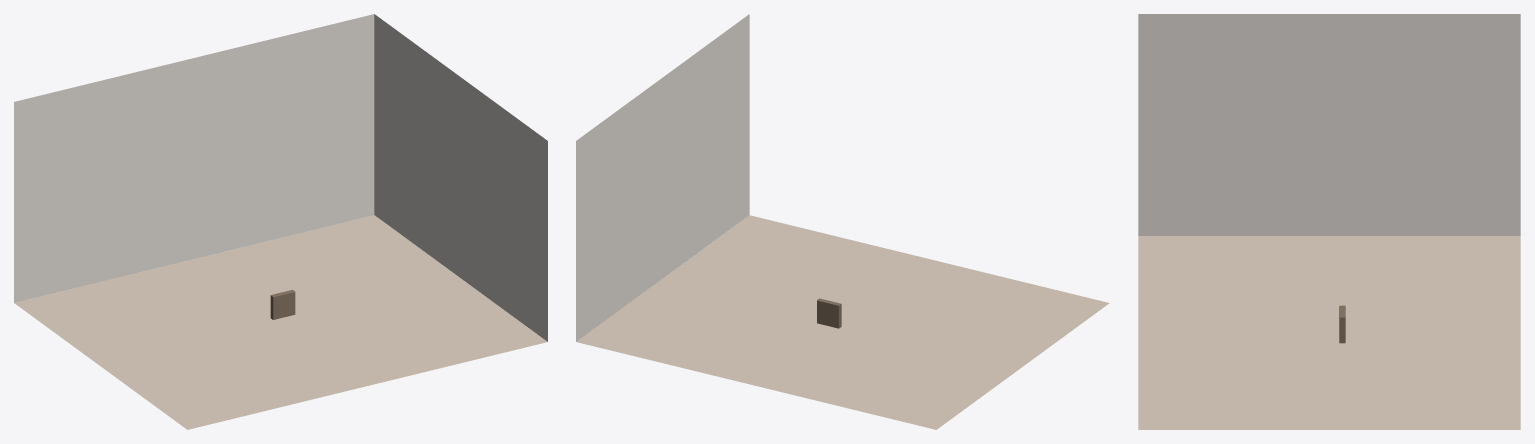
The model's file is forma-panel.glb.
3 renders of one model, left to right at view 1: azimuth 30°, elevation 25°; view 2: azimuth 150°, elevation 25°; view 3: azimuth 270°, elevation 25°, orthographic. The views are drawn at different scales.
Visible parts, largest first — view 1: sala, decoracion; view 2: sala, decoracion; view 3: sala.
Boxes of the visible parts, box(x1,y1,x2,y2) form: sala: box(14, 14, 547, 429); decoracion: box(270, 289, 295, 319); sala: box(576, 14, 1109, 429); decoracion: box(817, 298, 841, 328); sala: box(1138, 14, 1520, 429).
Bounding box in the file's own units: 6 × 3.21 × 5.
